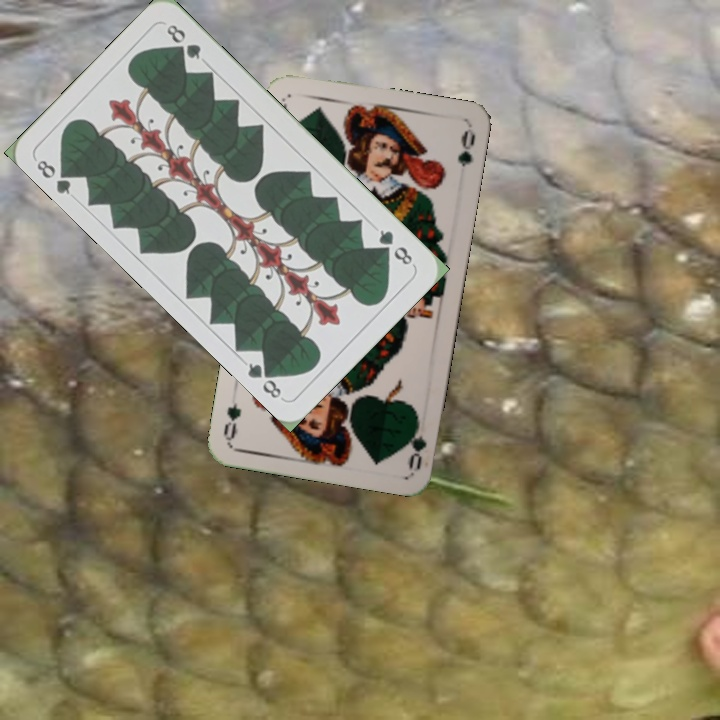G8: (32, 155, 77, 198), (374, 225, 416, 268)
GO: (401, 411, 429, 472)
